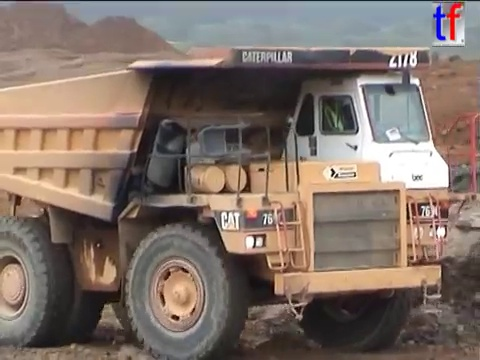truck: (1, 42, 480, 360)
